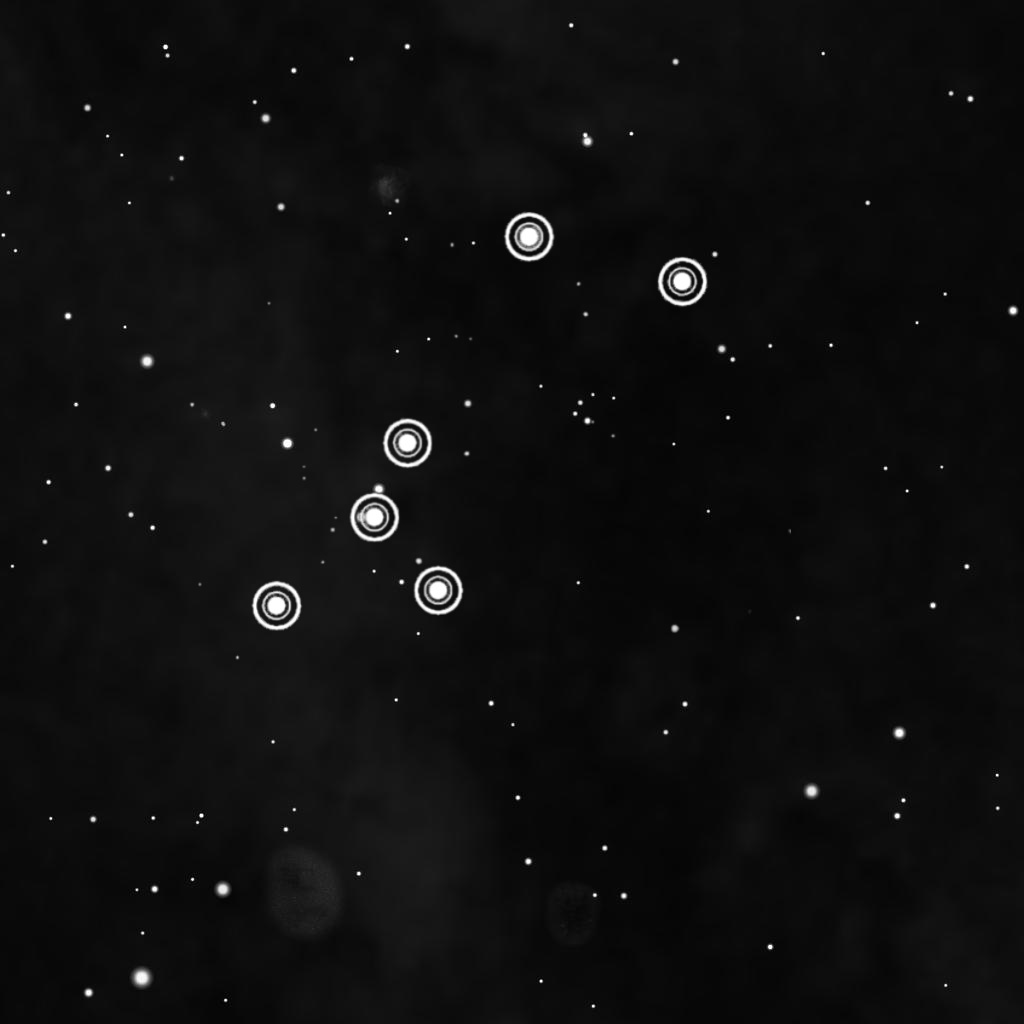canis_major: (243, 199, 718, 646)
